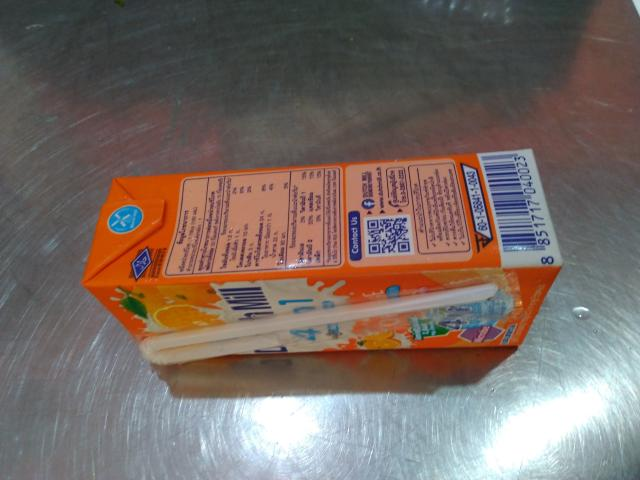drink_box: (61, 138, 578, 378)
